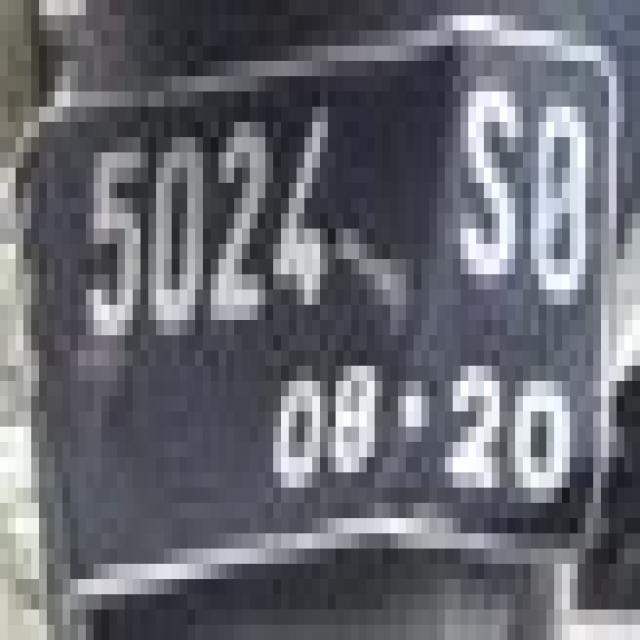plate: (0, 15, 609, 549)
